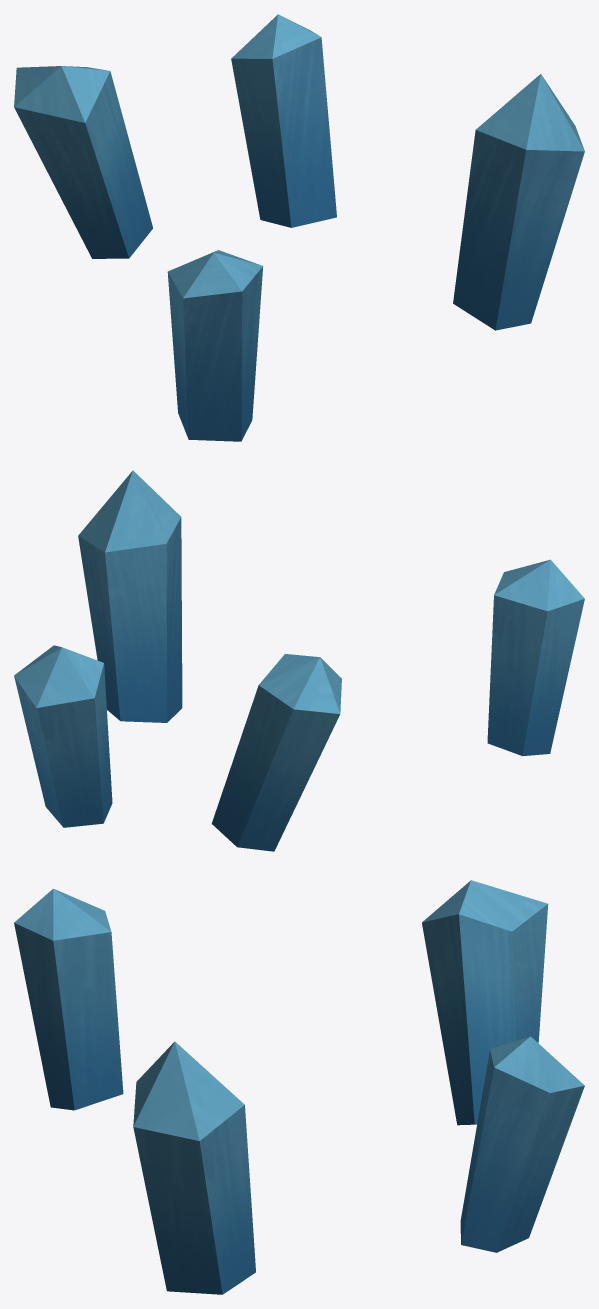
Rendered from Crtystal_3.FBX.
The picture shows the model from 3 angles, top to bottom: view 1: azimuth 30°, elevation 25°; view 2: azimuth 150°, elevation 25°; view 3: azimuth 270°, elevation 25°; orthographic projection. The views are drawn at different scales.
Parts seen in each view (by area): view 1: Cylinder003; view 2: Cylinder003; view 3: Cylinder003.
Part boxes in pixels (left/top/right/bottom): Cylinder003: left=14, top=14, right=584, bottom=441; Cylinder003: left=14, top=470, right=584, bottom=851; Cylinder003: left=14, top=880, right=584, bottom=1294.
Bounding box in the file's own units: 40.15 × 20.13 × 40.53.
